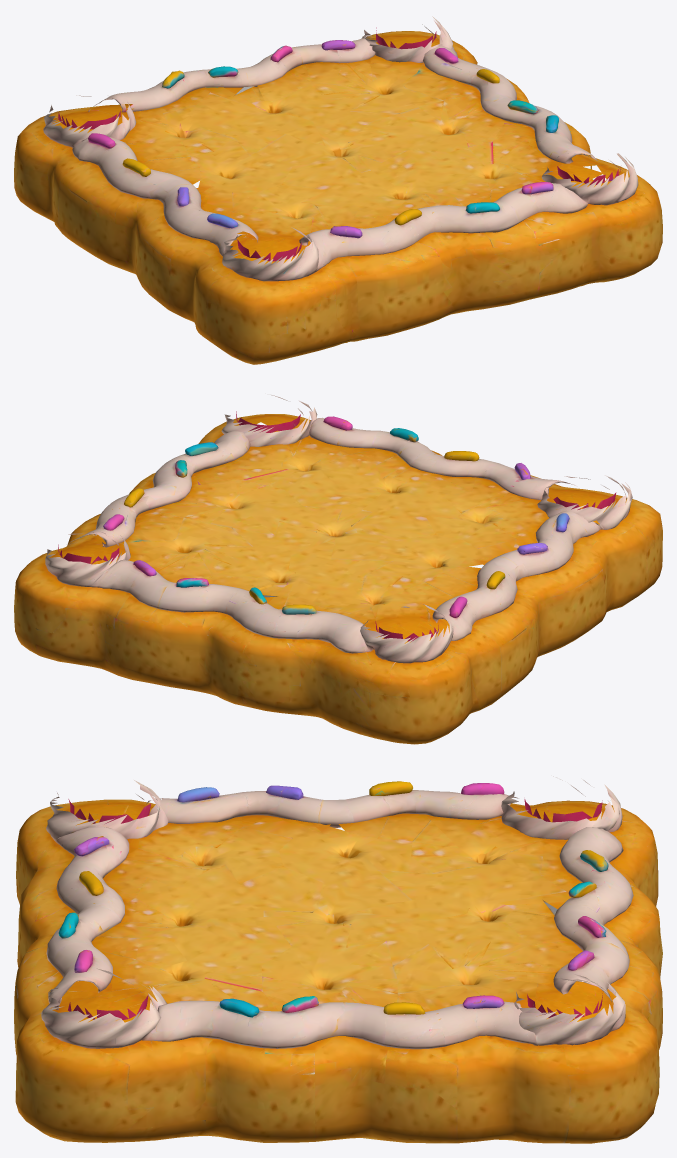
File: cookie_floor_tile.glb
The picture shows the model from 3 angles, top to bottom: view 1: azimuth 30°, elevation 25°; view 2: azimuth 150°, elevation 25°; view 3: azimuth 270°, elevation 25°; orthographic projection. The views are drawn at different scales.
Size of what is drawn, in the model's own units: 3.28 by 0.7367 by 3.28.
Materials: 1 (1 with a texture image).
